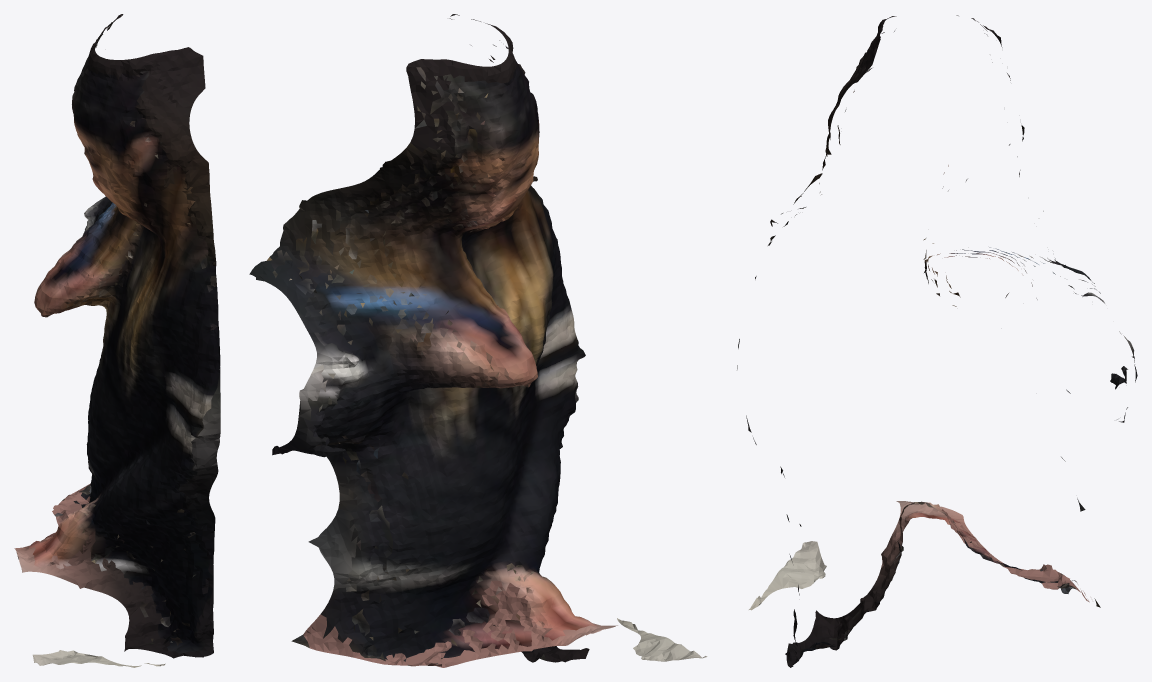
3 renders of one model, left to right at view 1: azimuth 30°, elevation 25°; view 2: azimuth 150°, elevation 25°; view 3: azimuth 270°, elevation 25°, orthographic. The views are drawn at different scales.
Size of the model in its own units: 0.4456 by 0.8971 by 0.5115.
1 material, 1 textured.
